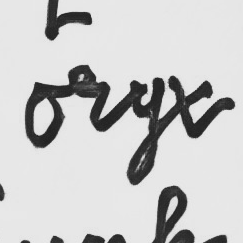o: (23, 80, 65, 152)
r: (66, 63, 112, 133)
x: (166, 71, 216, 141)
y: (122, 74, 166, 185)
